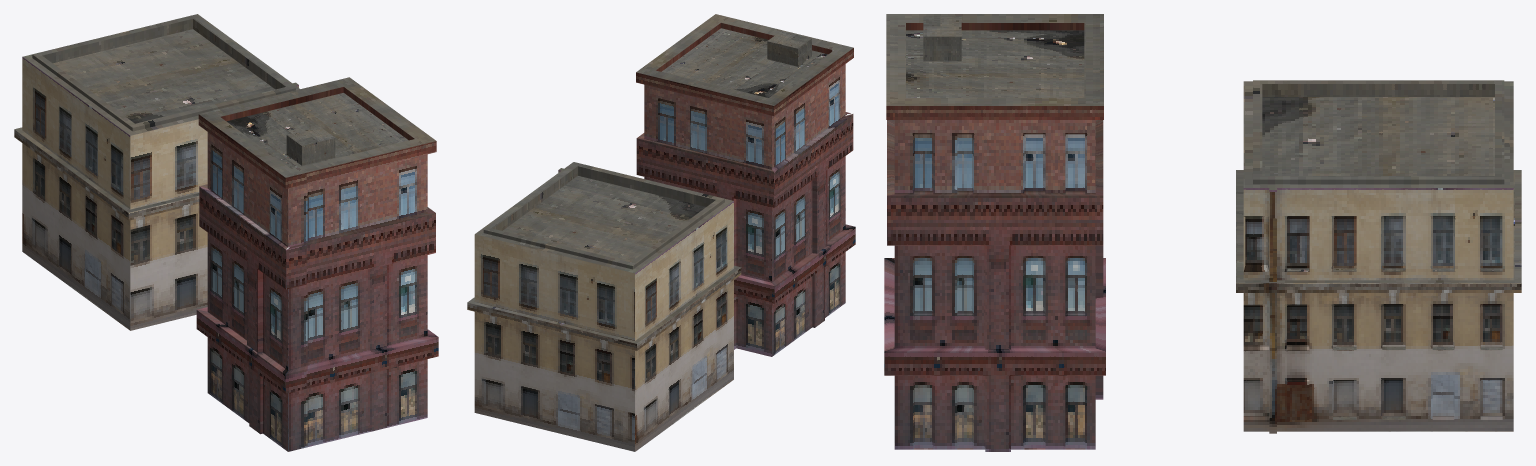
Rendered from building2.glb.
3 renders of one model, left to right at view 1: azimuth 30°, elevation 25°; view 2: azimuth 150°, elevation 25°; view 3: azimuth 270°, elevation 25°, orthographic. The views are drawn at different scales.
Parts seen in each view (by area): view 1: Cube, Cube.001; view 2: Cube.001, Cube; view 3: Cube.001, Cube.
Part boxes in pixels (left/top/right/bottom): Cube: left=196, top=77, right=438, bottom=451; Cube.001: left=14, top=14, right=299, bottom=330; Cube.001: left=467, top=162, right=741, bottom=451; Cube: left=636, top=14, right=855, bottom=356; Cube.001: left=1236, top=80, right=1521, bottom=433; Cube: left=884, top=14, right=1105, bottom=451.
Size of the model in its own units: 3.89 by 5.85 by 9.28.
Materials: 1 (1 with a texture image).
